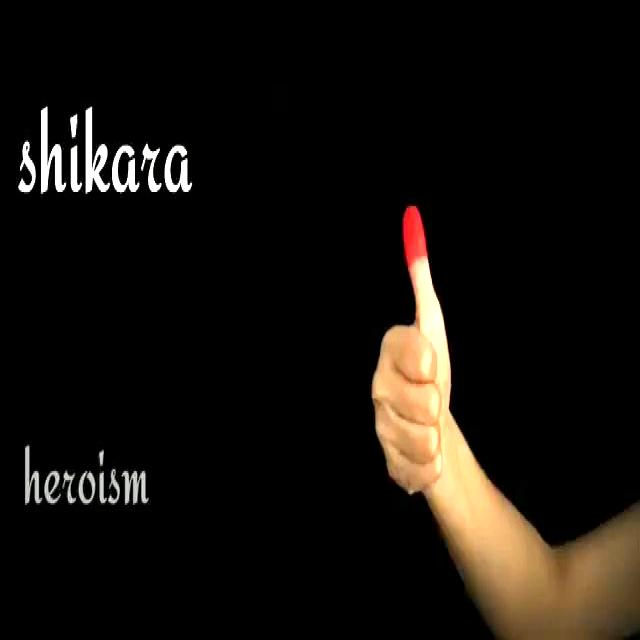Shikhara: (353, 181, 489, 518)
text: (9, 99, 201, 219), (6, 432, 157, 522)
